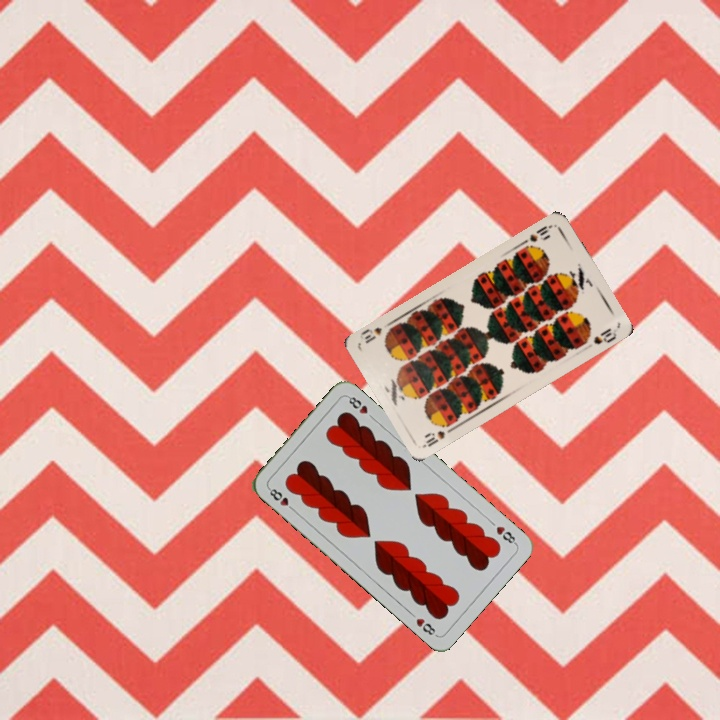H8: (264, 483, 298, 514), (492, 522, 519, 547)
S10: (420, 423, 458, 449), (525, 220, 555, 244)
